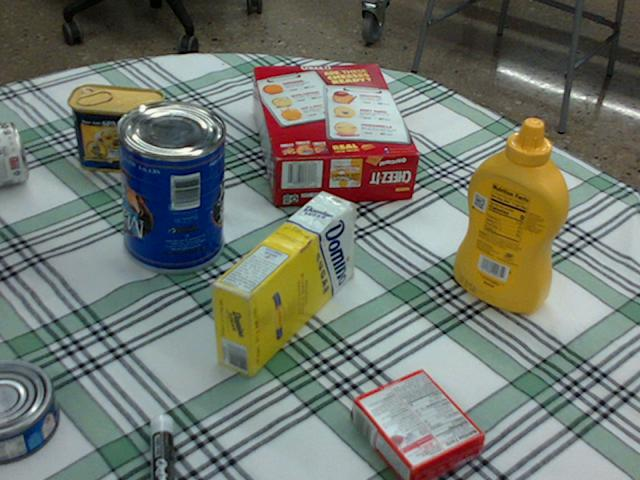cracker_box: (251, 65, 418, 202)
gelatin_box: (350, 369, 482, 479)
large_marker: (149, 415, 172, 479)
master_chef_can: (114, 101, 224, 274)
mustard_bottle: (453, 118, 568, 312)
potted_meat_can: (68, 85, 164, 173)
sugar_box: (210, 192, 353, 376)
tomato_soup_can: (0, 121, 26, 185)
tuna_fish_can: (0, 359, 55, 462)
